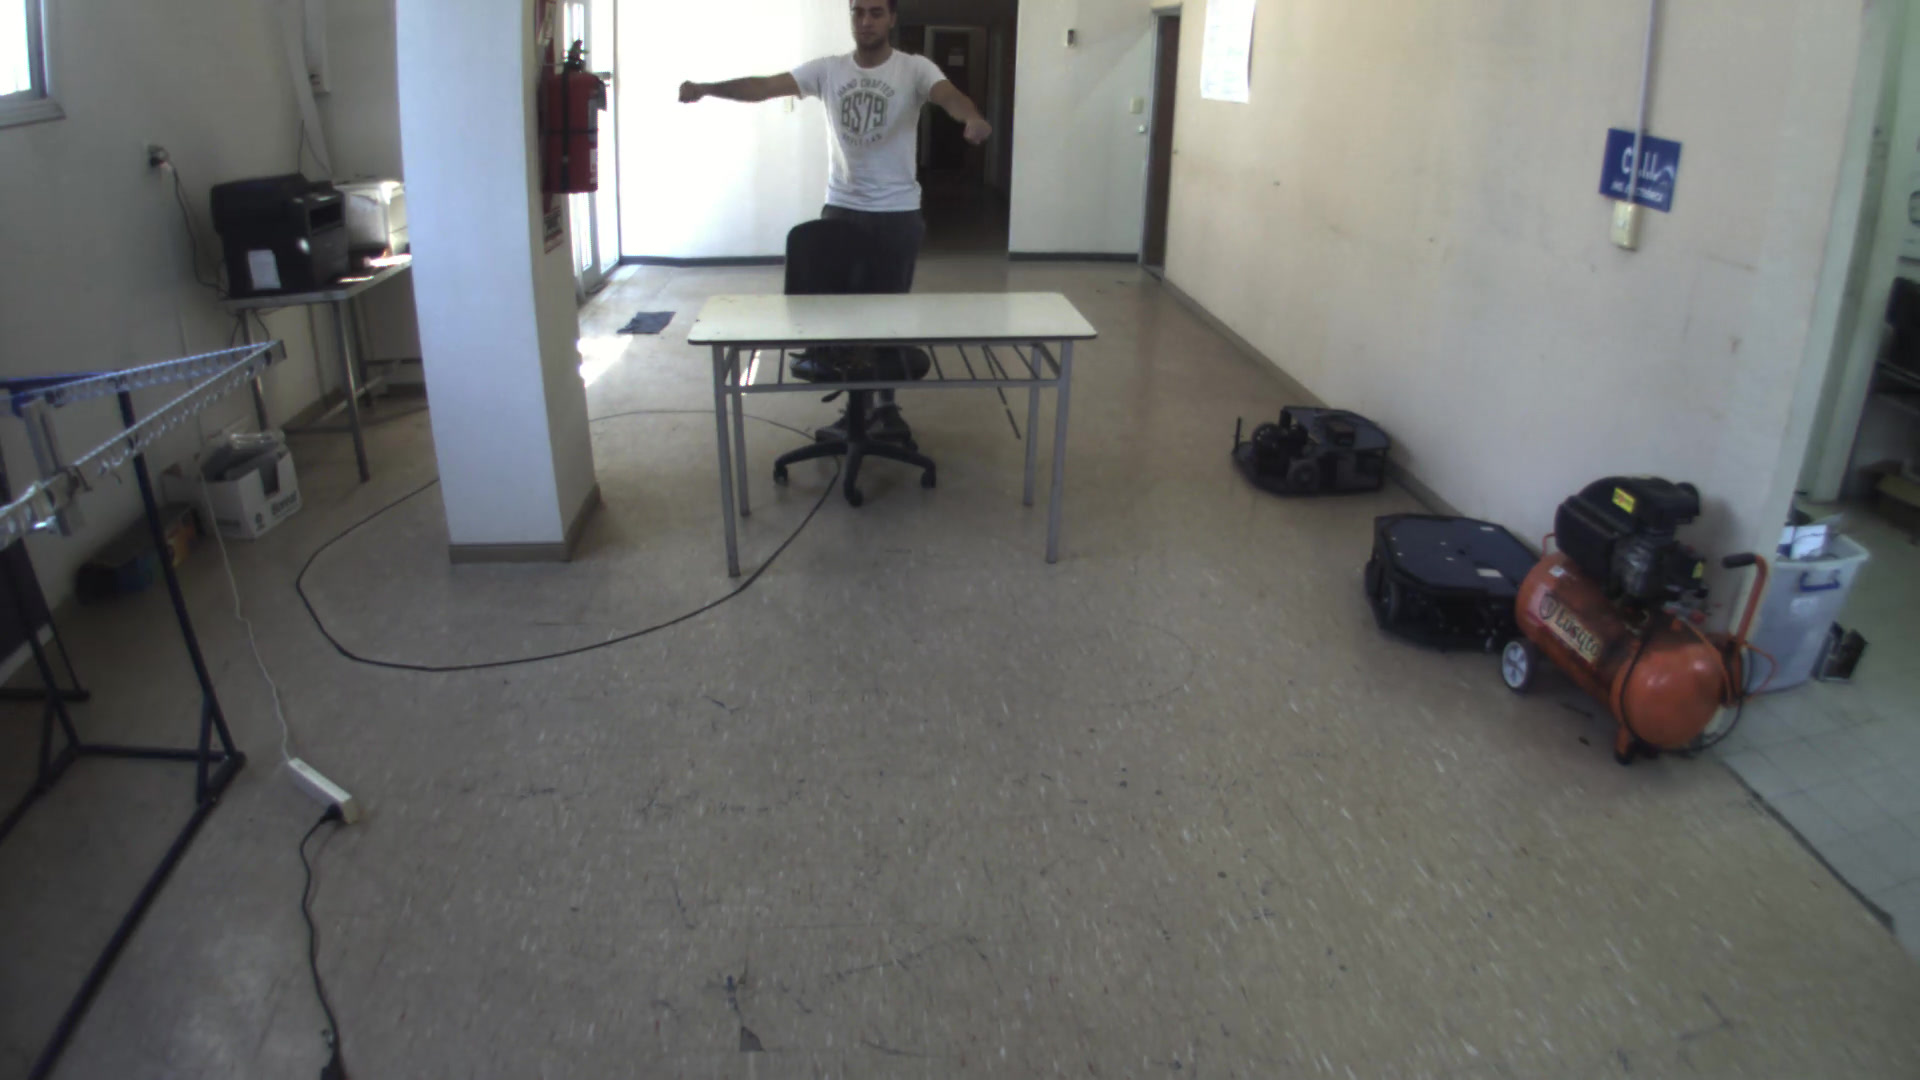hand: (957, 105, 998, 142), (675, 70, 708, 108)
